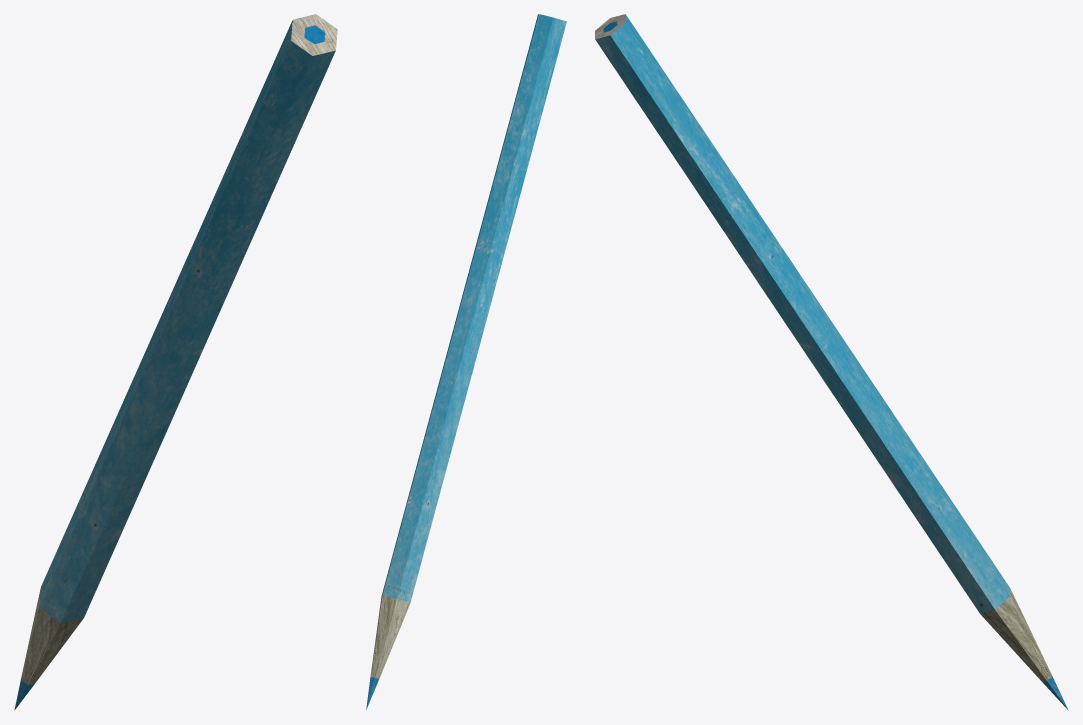
File: LapizAzul.DAE
The picture shows the model from 3 angles, left to right: view 1: azimuth 30°, elevation 25°; view 2: azimuth 150°, elevation 25°; view 3: azimuth 270°, elevation 25°; orthographic projection. The views are drawn at different scales.
Visible parts, largest first — view 1: Box_Lapiz01; view 2: Box_Lapiz01; view 3: Box_Lapiz01.
Part boxes in pixels (x1=…): Box_Lapiz01: x1=14, y1=14, x2=337, y2=710; Box_Lapiz01: x1=366, y1=14, x2=566, y2=710; Box_Lapiz01: x1=595, y1=14, x2=1068, y2=710.
Bounding box in the file's own units: 8.32 × 95.83 × 155.
Materials: 1 (1 with a texture image).
